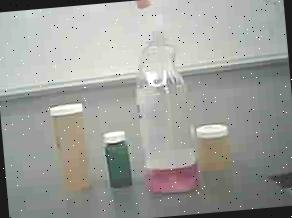Bottle A: (46, 100, 99, 195)
Bottle B: (196, 120, 235, 172)
Bottle C: (100, 128, 136, 190)
hazard: (123, 0, 203, 201)
